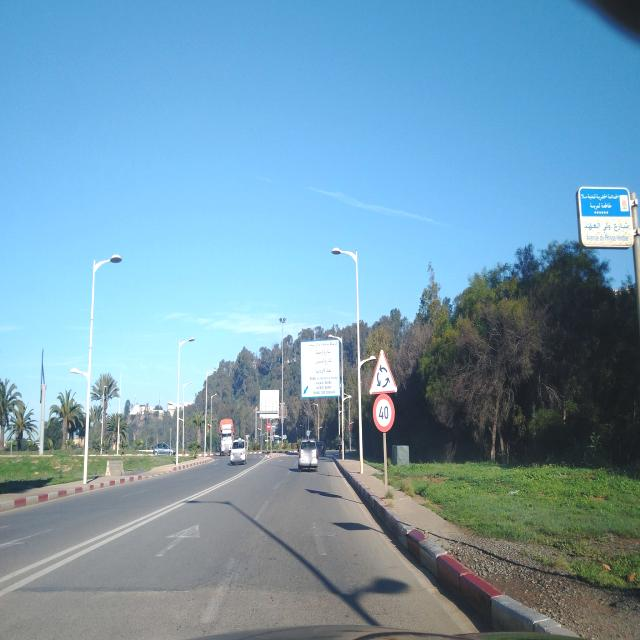car: (298, 439, 318, 472), (230, 438, 248, 466), (315, 440, 326, 456)
